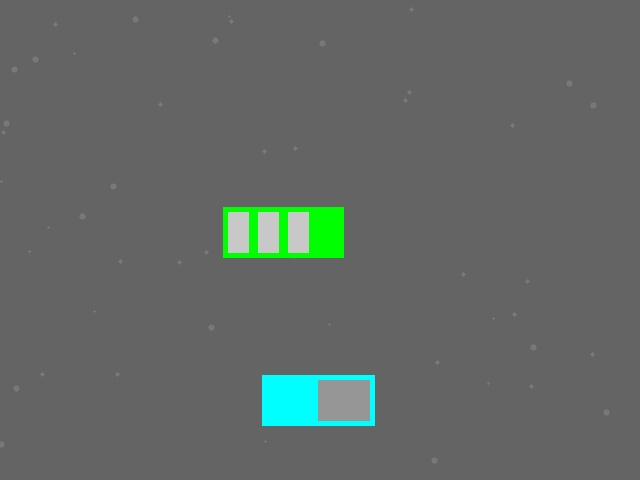bus: (223, 207, 343, 257)
truck: (262, 375, 374, 425)
